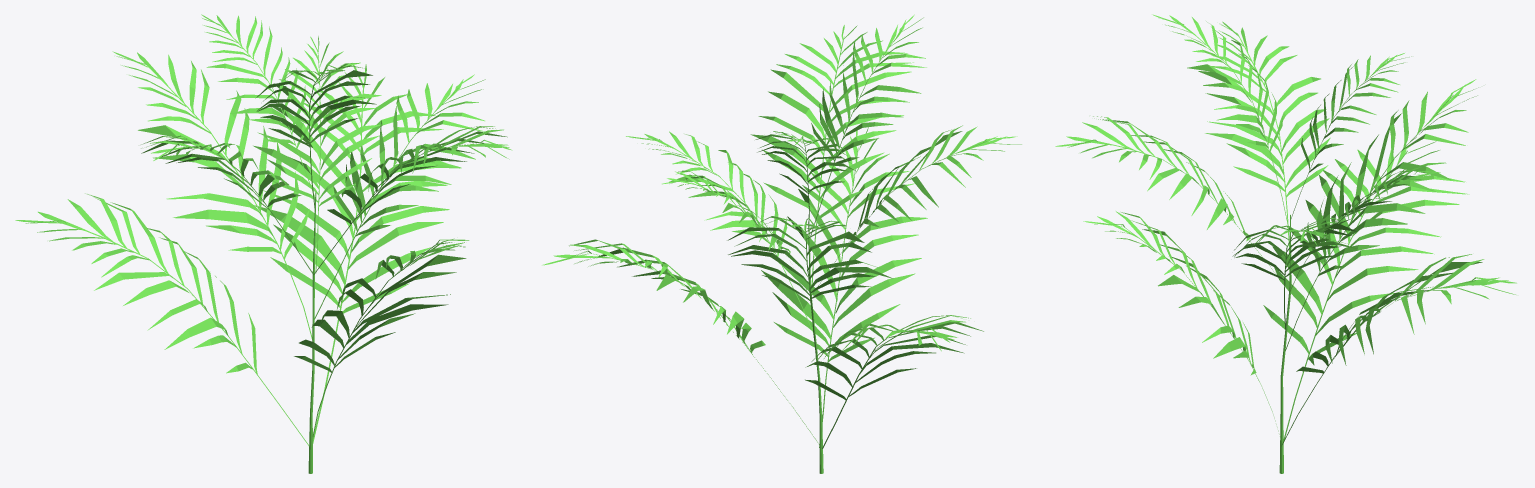
The model's file is Areca_Palm_03.fbx.
The picture shows the model from 3 angles, left to right: view 1: azimuth 30°, elevation 25°; view 2: azimuth 150°, elevation 25°; view 3: azimuth 270°, elevation 25°; orthographic projection. The views are drawn at different scales.
Visible parts, largest first — view 1: Areca_Palm_03; view 2: Areca_Palm_03; view 3: Areca_Palm_03.
Part boxes in pixels (bbox=[...]): Areca_Palm_03: bbox=[15, 14, 512, 473]; Areca_Palm_03: bbox=[542, 14, 1021, 473]; Areca_Palm_03: bbox=[1055, 14, 1516, 473].
Size of the model in its own units: 167 by 176 by 170.
